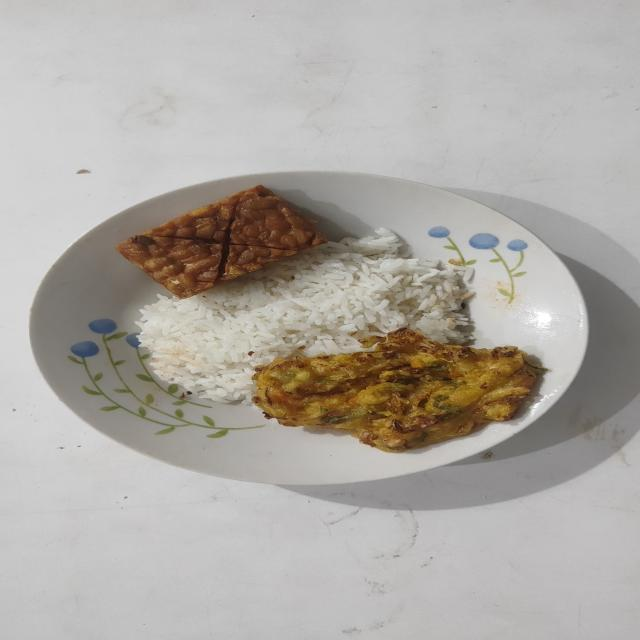nasi_putih: (140, 228, 474, 404)
tempe_goreng: (116, 185, 328, 299)
